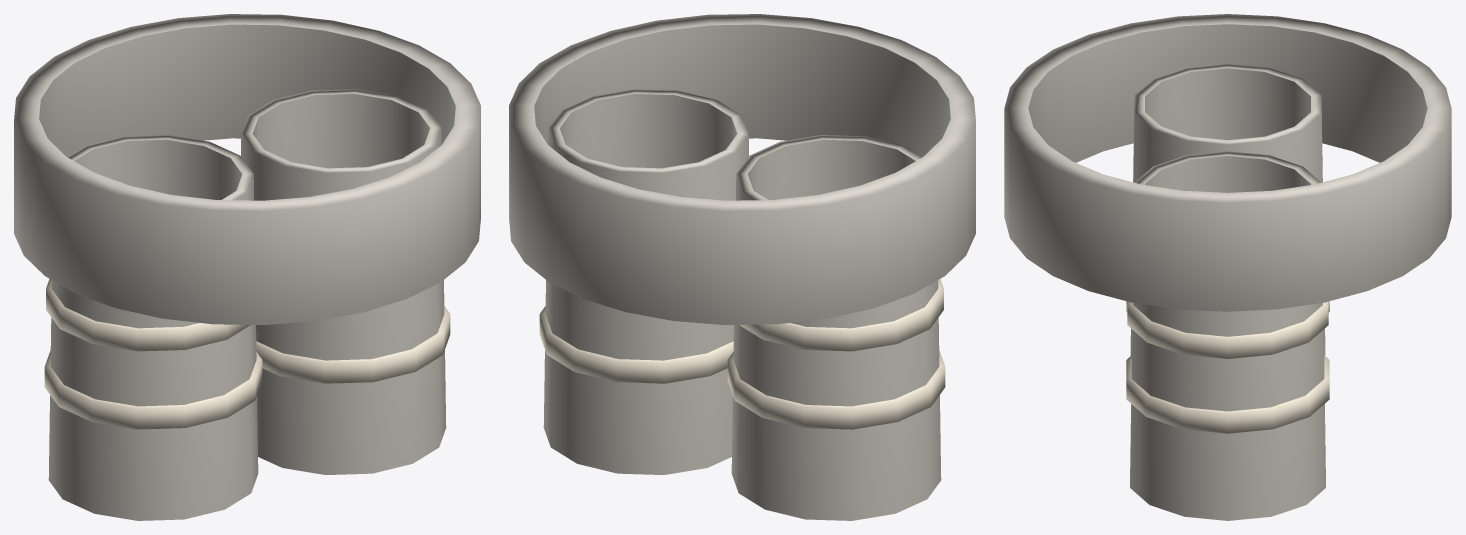
File: down_pants.glb
The picture shows the model from 3 angles, left to right: view 1: azimuth 30°, elevation 25°; view 2: azimuth 150°, elevation 25°; view 3: azimuth 270°, elevation 25°; orthographic projection. The views are drawn at different scales.
Visible parts, largest first — view 1: down_pants_Body, down_pants_LegL, down_pants_LegR; view 2: down_pants_Body, down_pants_LegL, down_pants_LegR; view 3: down_pants_Body, down_pants_LegR, down_pants_LegL.
Boxes of the visible parts, x1,y1,x2,y2 form: down_pants_Body: (14,14,480,324); down_pants_LegL: (44,135,262,520); down_pants_LegR: (241,89,450,474); down_pants_Body: (509,14,975,324); down_pants_LegL: (727,135,945,520); down_pants_LegR: (539,89,748,474); down_pants_Body: (1004,14,1451,311); down_pants_LegR: (1126,151,1329,520); down_pants_LegL: (1126,63,1329,355).
Size of the model in its own units: 0.41 by 0.33 by 0.41.
